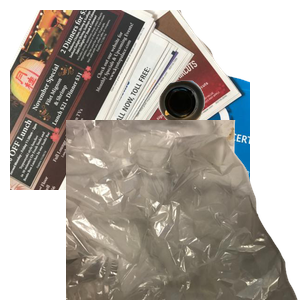glass: (156, 78, 300, 197)
paper: (10, 10, 250, 190)
plastic: (80, 120, 289, 300)
trash: (66, 120, 300, 300)
